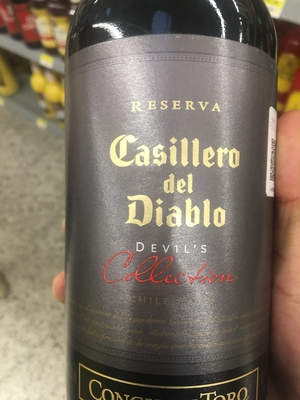casillero del diablo devils collection rojo: (62, 6, 277, 400)
